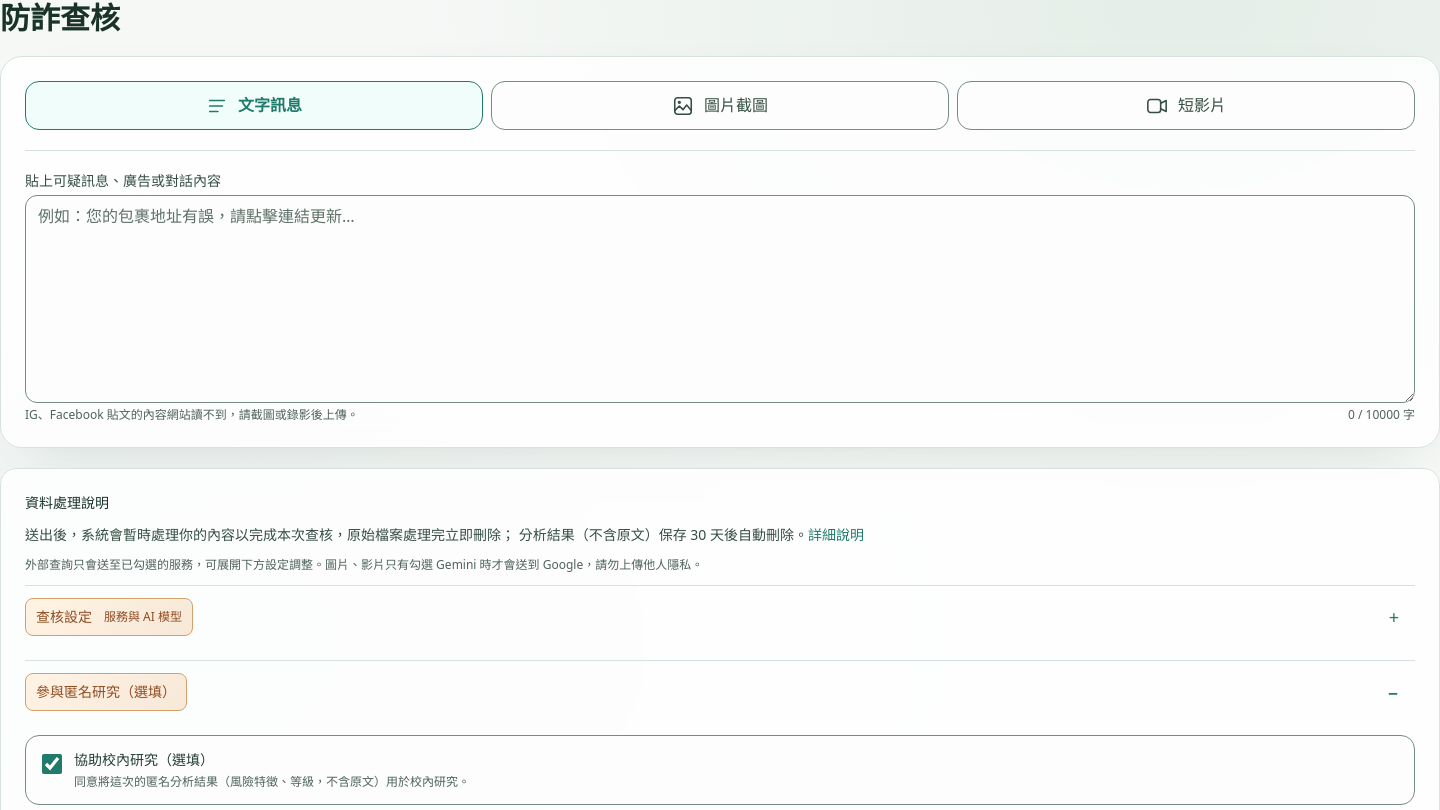
Scenario: Check page › 貼上 IG／FB 連結時提醒改用截圖或錄影，並可一鍵切換
Check: the text "偵測到 IG、Facebook" is not shown
Type "快看 https://www.instagram.com/p/abc123/" into the text box labelled "貼上可疑訊息、廣告或對話內容".
click(720, 299); type("快看 https://www.instagram.com/p/abc123/")  # box x1=25 y1=195 x2=1415 y2=403
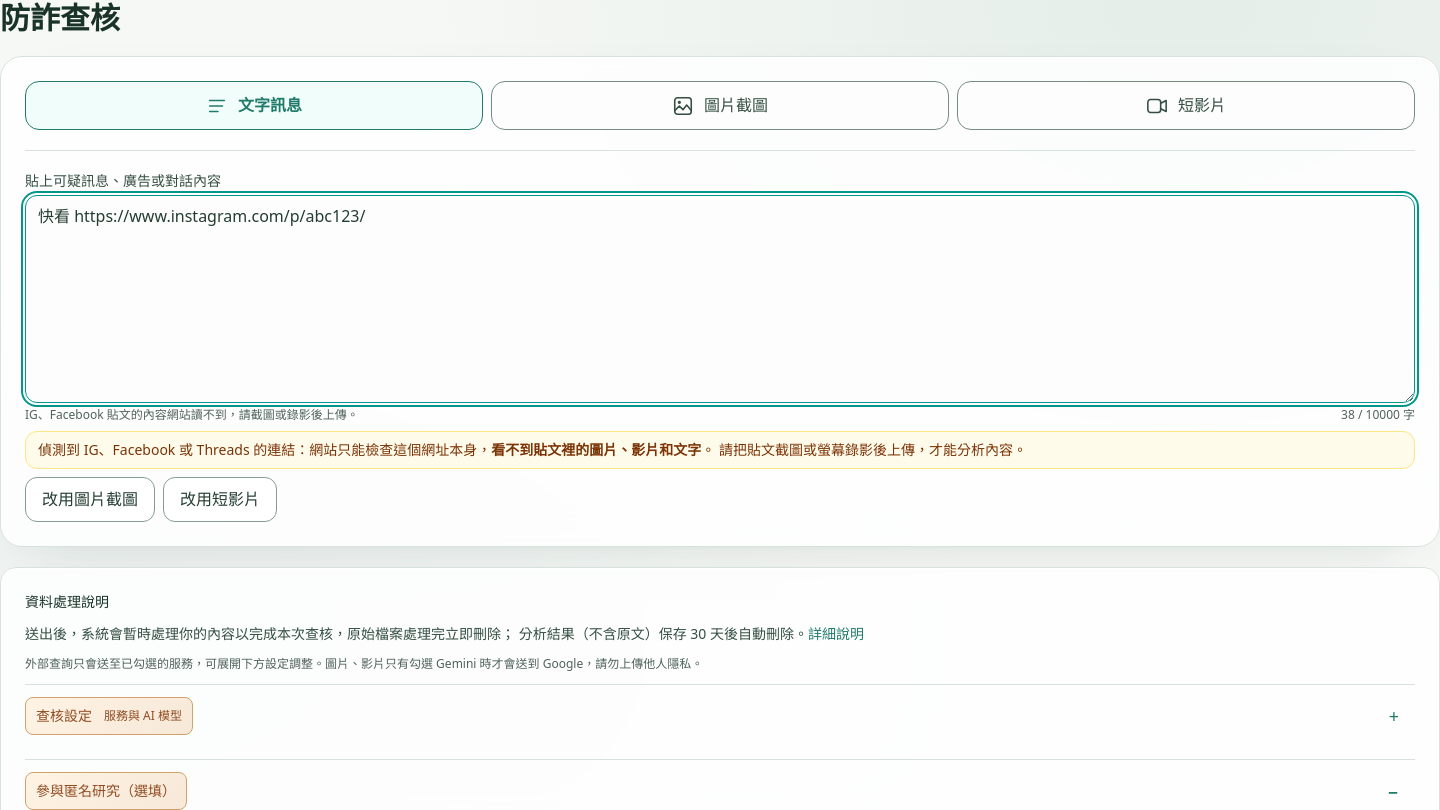
Check: the text "偵測到 IG、Facebook" is shown, box x1=38 y1=440 x2=491 y2=459
Click the button "改用圖片截圖".
click(90, 500)  # box x1=25 y1=477 x2=155 y2=522
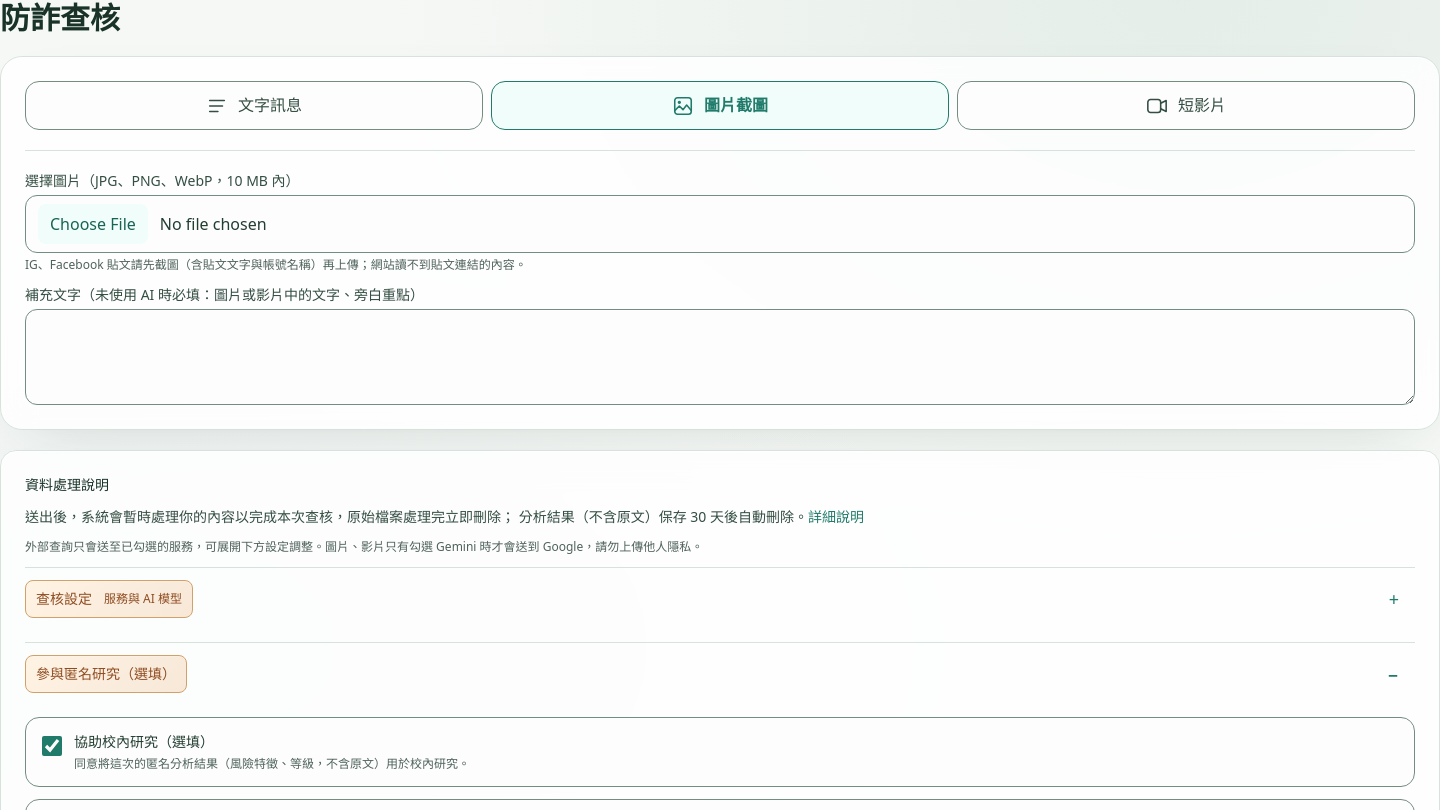
Check: the label labelled "貼上可疑訊息" is gone
Check: the text "IG、Facebook 貼文請先截圖（含貼文文字與帳號名稱）再上傳；網站讀不到貼文連結的內容。" is shown, box x1=25 y1=256 x2=527 y2=273
